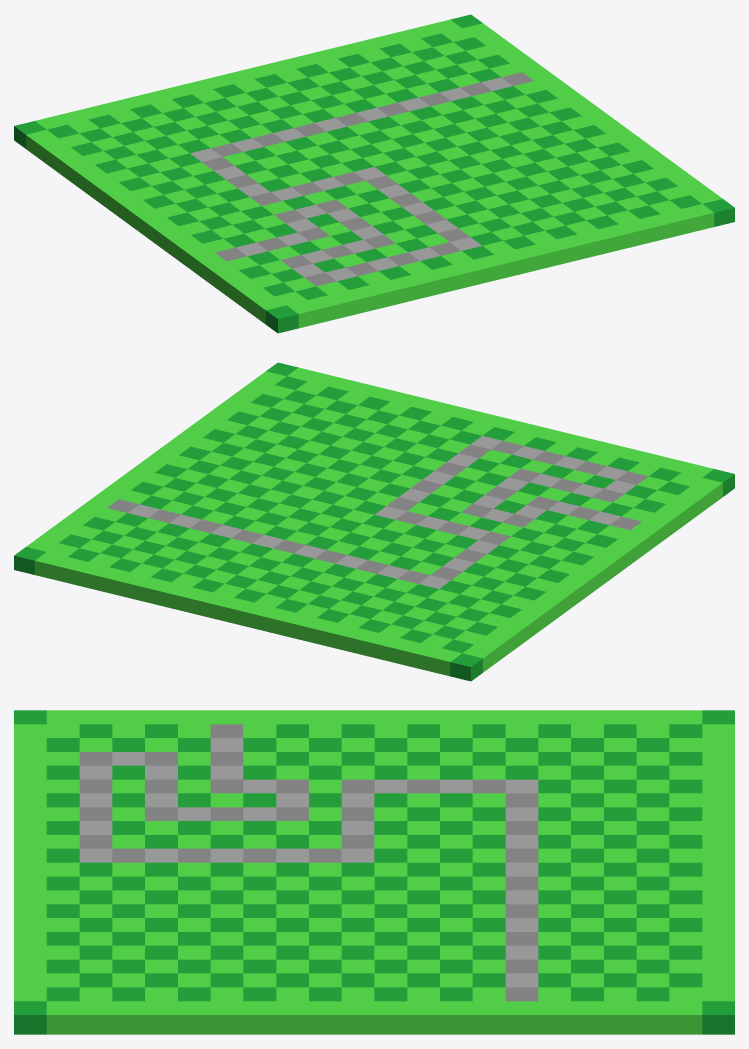
The model's file is board.fbx.
3 renders of one model, top to bottom at view 1: azimuth 30°, elevation 25°; view 2: azimuth 150°, elevation 25°; view 3: azimuth 270°, elevation 25°, orthographic. The views are drawn at different scales.
Visible parts, largest first — view 1: Cube.004; view 2: Cube.004; view 3: Cube.004.
Boxes of the visible parts, x1,y1,x2,y2 form: Cube.004: (14, 14, 734, 333); Cube.004: (14, 362, 734, 681); Cube.004: (14, 710, 734, 1034).
Size of the model in its own units: 4400 by 132 by 4400.
